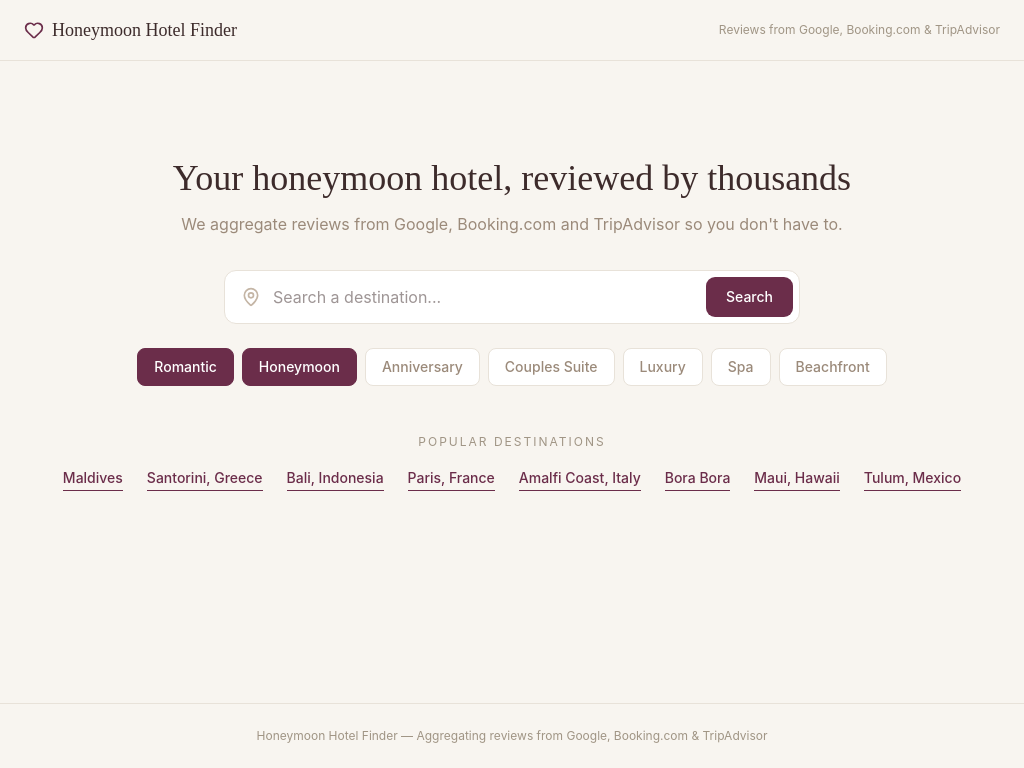
Test: Search & Results Page › selects an autocomplete suggestion
In the field with placeholder "Search a destination...": (484, 297) [261, 271, 706, 323], type "Paris"
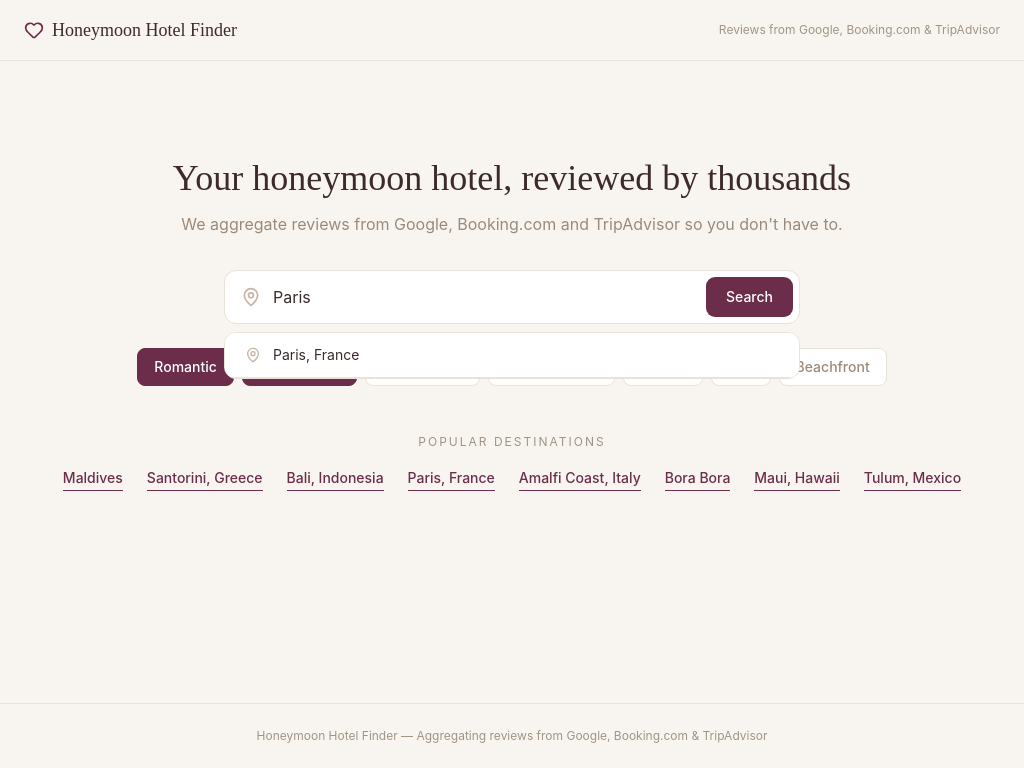
Click the text "Paris, France": (316, 355) [273, 345, 359, 365]
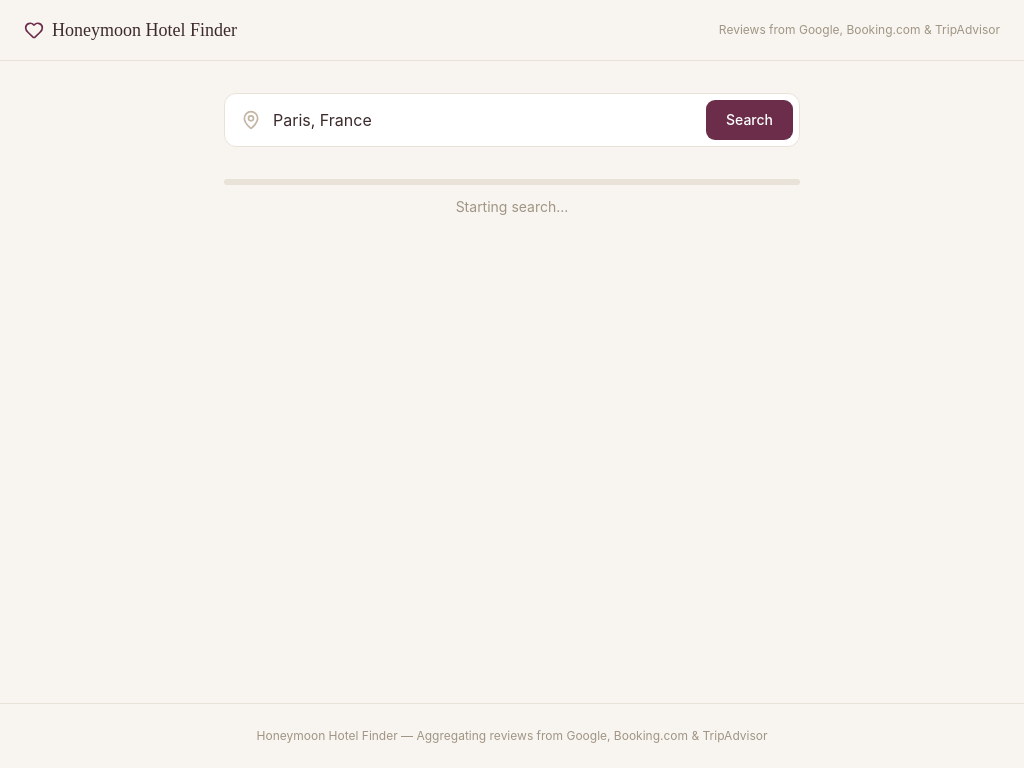
Expected: the field holds "Paris, France", [261, 94, 706, 146]
